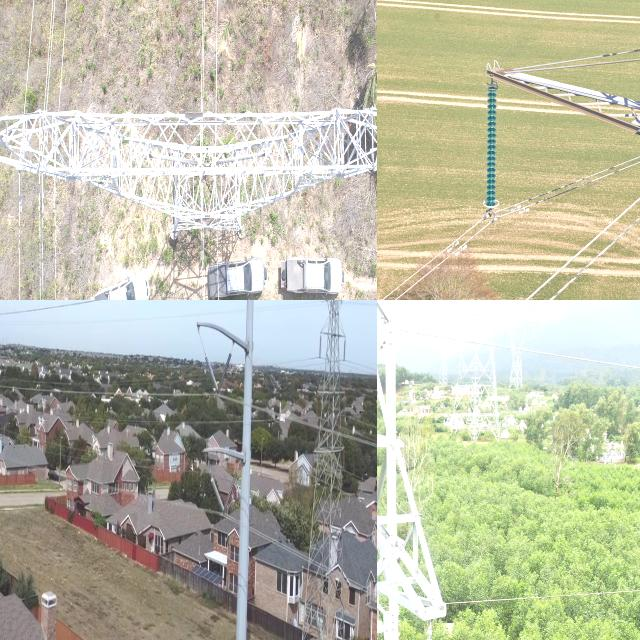杆塔: (0, 82, 377, 287), (511, 0, 640, 300), (377, 300, 458, 640), (290, 300, 352, 640)
正常电缆: (377, 315, 640, 380), (377, 581, 640, 610)
正常绝缘子: (484, 74, 504, 228), (208, 346, 238, 409), (202, 460, 228, 518), (218, 464, 243, 523), (199, 339, 221, 401), (315, 326, 324, 364), (340, 332, 350, 364)
